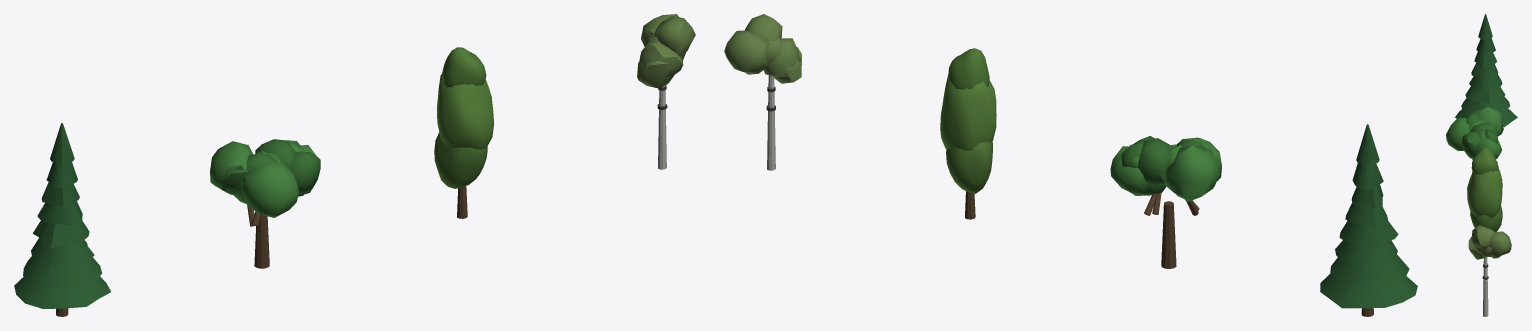
Rendered from trees.glb.
The picture shows the model from 3 angles, left to right: view 1: azimuth 30°, elevation 25°; view 2: azimuth 150°, elevation 25°; view 3: azimuth 270°, elevation 25°; orthographic projection. The views are drawn at different scales.
Visible parts, largest first — view 1: tree_conifer, tree_oak, tree_poplar, tree_birch; view 2: tree_conifer, tree_oak, tree_poplar, tree_birch; view 3: tree_conifer, tree_poplar, tree_oak, tree_birch.
Boxes of the visible parts, <box> form: tree_conifer: <box>14,123,110,316</box>; tree_oak: <box>210,139,320,268</box>; tree_poplar: <box>434,47,493,218</box>; tree_birch: <box>637,14,695,169</box>; tree_conifer: <box>1320,124,1417,316</box>; tree_oak: <box>1110,136,1221,268</box>; tree_poplar: <box>940,48,996,219</box>; tree_birch: <box>724,14,801,170</box>; tree_conifer: <box>1455,14,1517,127</box>; tree_poplar: <box>1467,147,1502,231</box>; tree_oak: <box>1446,106,1503,163</box>; tree_birch: <box>1468,225,1511,316</box>.
Bounding box in the file's own units: 16.9 × 4.56 × 2.5.
